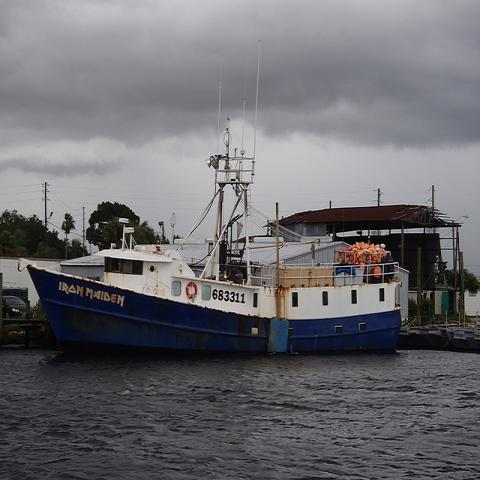car: (2, 296, 26, 318)
